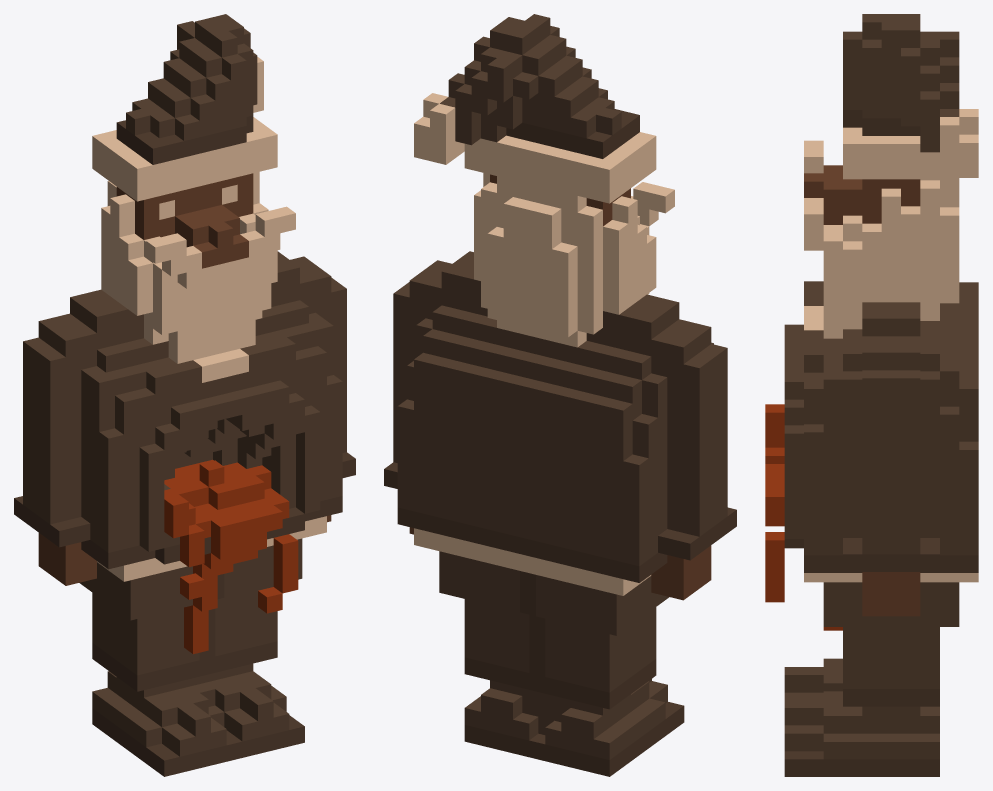
The model's file is santa_roto.obj.
3 renders of one model, left to right at view 1: azimuth 30°, elevation 25°; view 2: azimuth 150°, elevation 25°; view 3: azimuth 270°, elevation 25°, orthographic. The views are drawn at different scales.
Bounding box in the file's own units: 1.9 × 4.2 × 1.1.
1 material, 1 textured.
